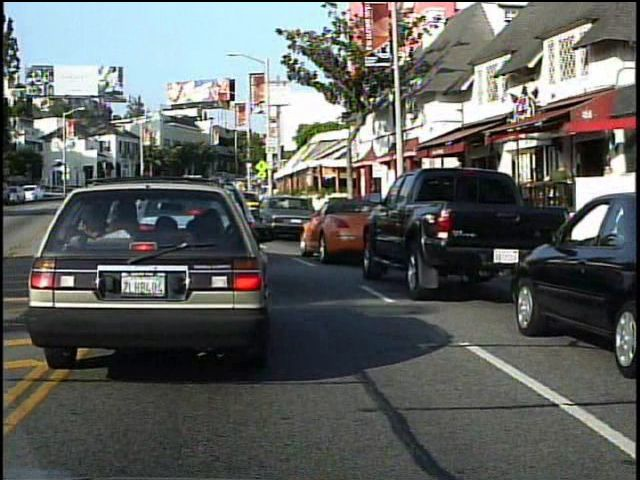person: (548, 157, 576, 226)
